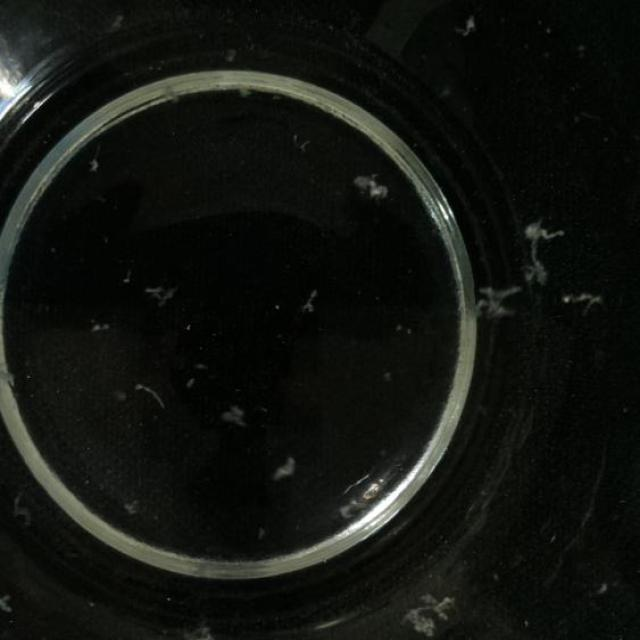fiber: (473, 221, 560, 318), (396, 577, 462, 639), (556, 279, 606, 322), (146, 612, 222, 638), (341, 164, 392, 202), (131, 374, 174, 409), (6, 483, 33, 535), (267, 449, 301, 484), (290, 280, 319, 315), (140, 274, 177, 300), (224, 398, 249, 431), (0, 584, 16, 627), (88, 312, 108, 343)
